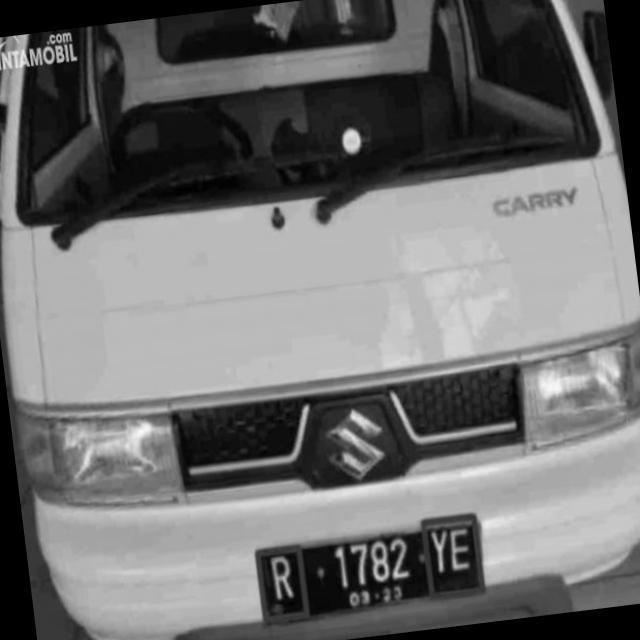1: (328, 542, 358, 599)
2: (386, 529, 418, 590)
7: (350, 530, 376, 596)
8: (367, 538, 395, 592)
E: (446, 512, 476, 579)
R: (263, 543, 307, 619)
Y: (417, 526, 454, 584)
